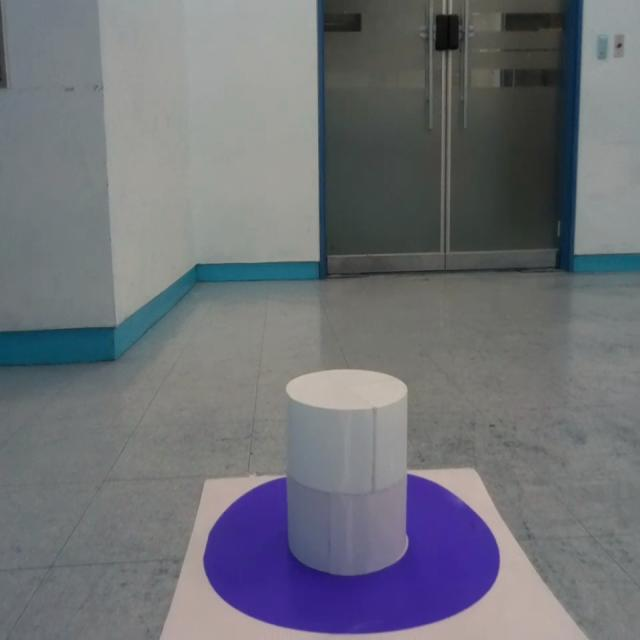cylinder: (283, 368, 409, 576)
